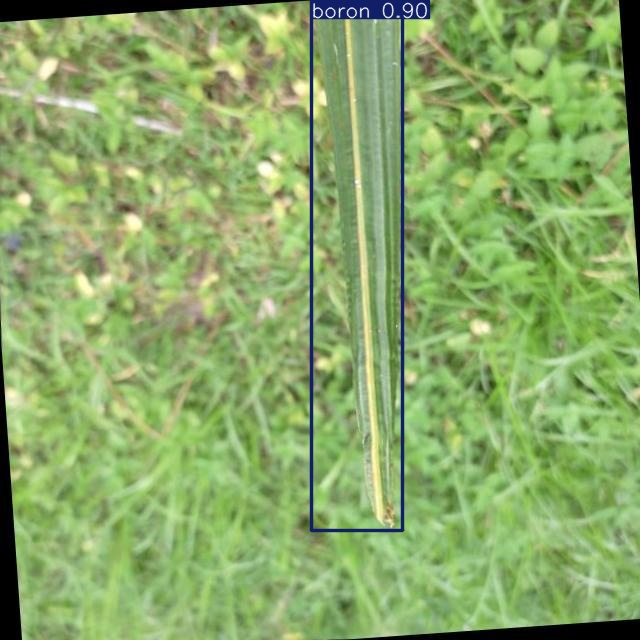nitrogen: (312, 0, 402, 530)
